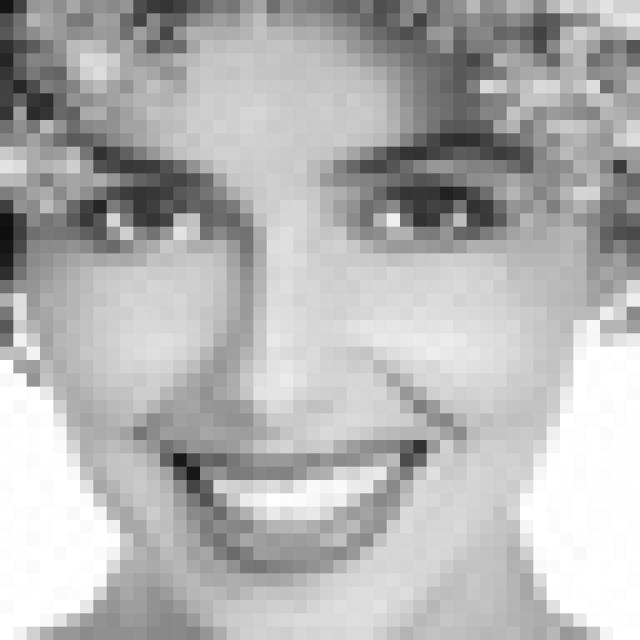happy: (70, 127, 532, 582)
